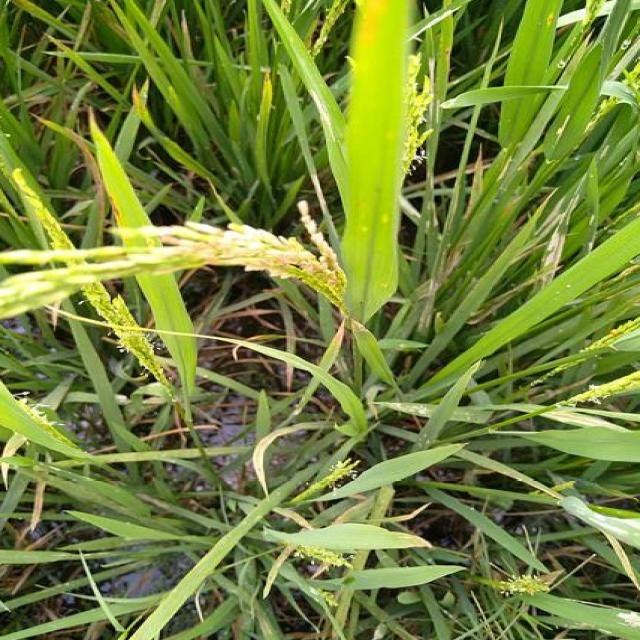Panicle Blight: (161, 201, 345, 308)
